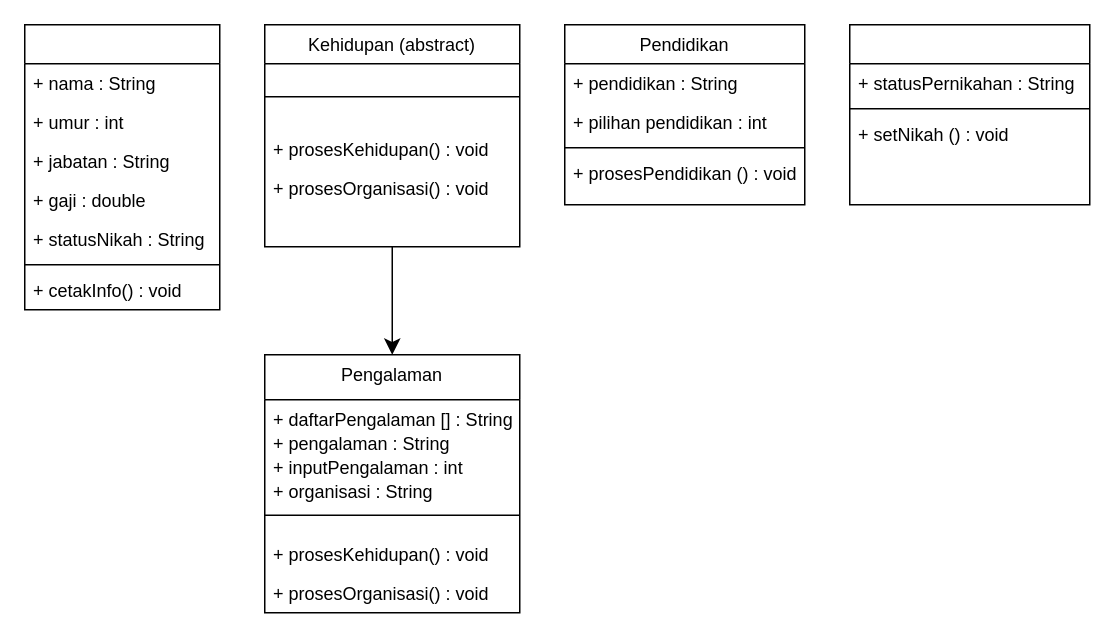
The diagram is 1115 pixels wide and 638 high, and some of its shapes have lost their labels. Here are the shapes that lost their labels. From the top down, the box of each, then its label:
(848, 23, 1090, 205): Keluarga
(23, 23, 220, 310): Karyaawan
